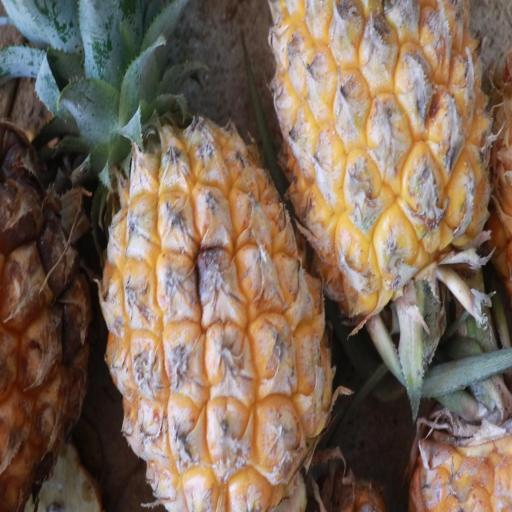Pineapple - v8 v1: (97, 0, 339, 512), (276, 1, 499, 332)
